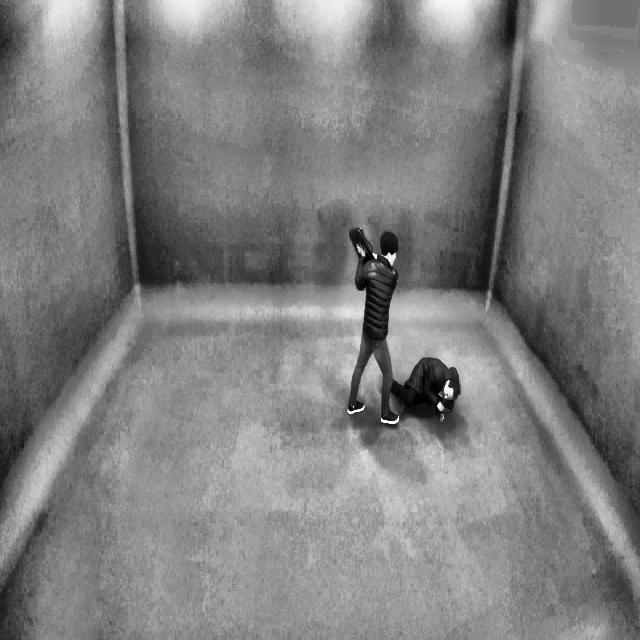assult: (346, 215, 460, 428)
